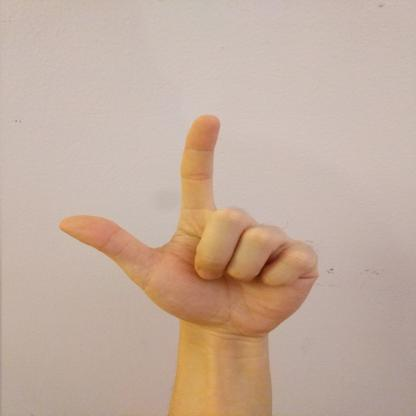L: (54, 111, 323, 338)
